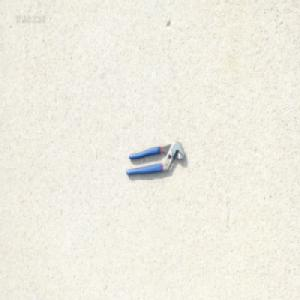Pliers: (123, 137, 184, 175)
